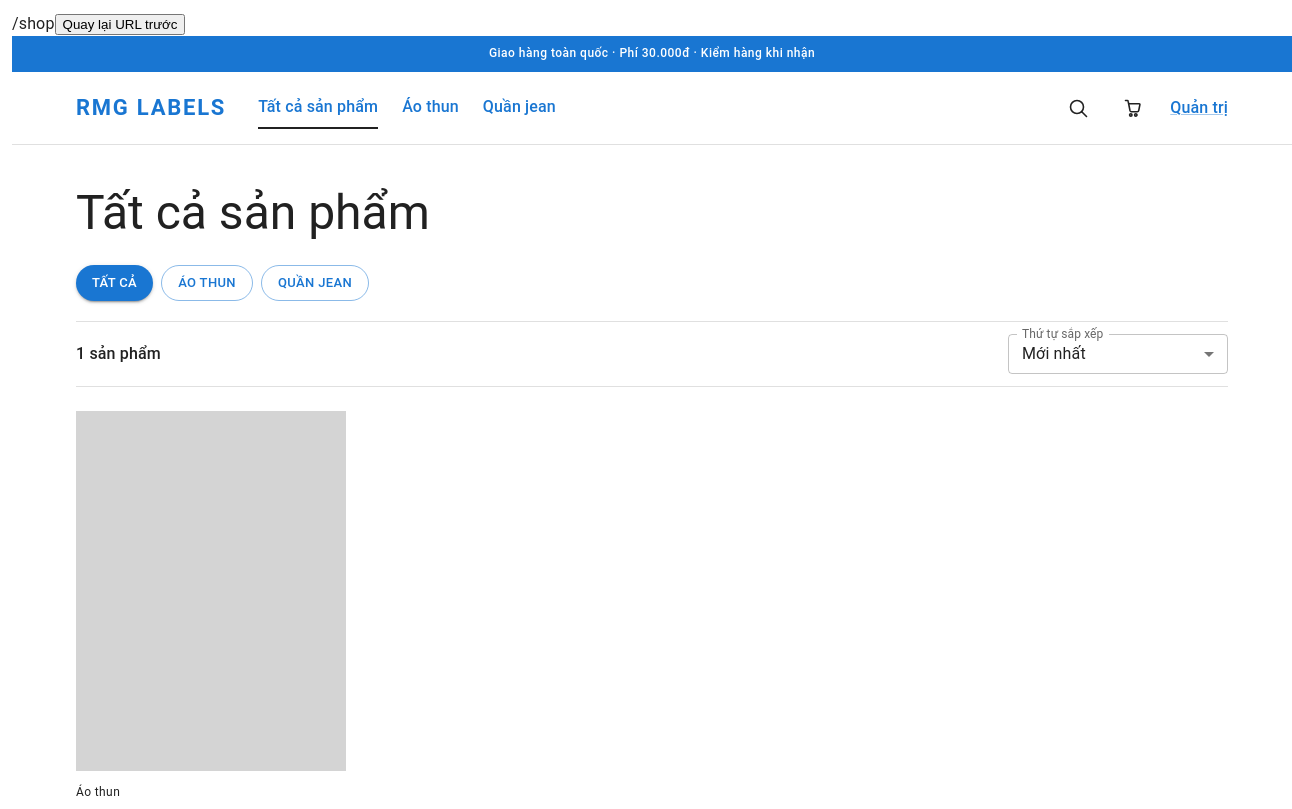
public shop catalog › changes the sort order and reports it on the URL
Select "Giá cao đến thấp" in the dropdown labelled "Thứ tự sắp xếp" at (1118, 354), box left=1008, top=334, right=1228, bottom=374
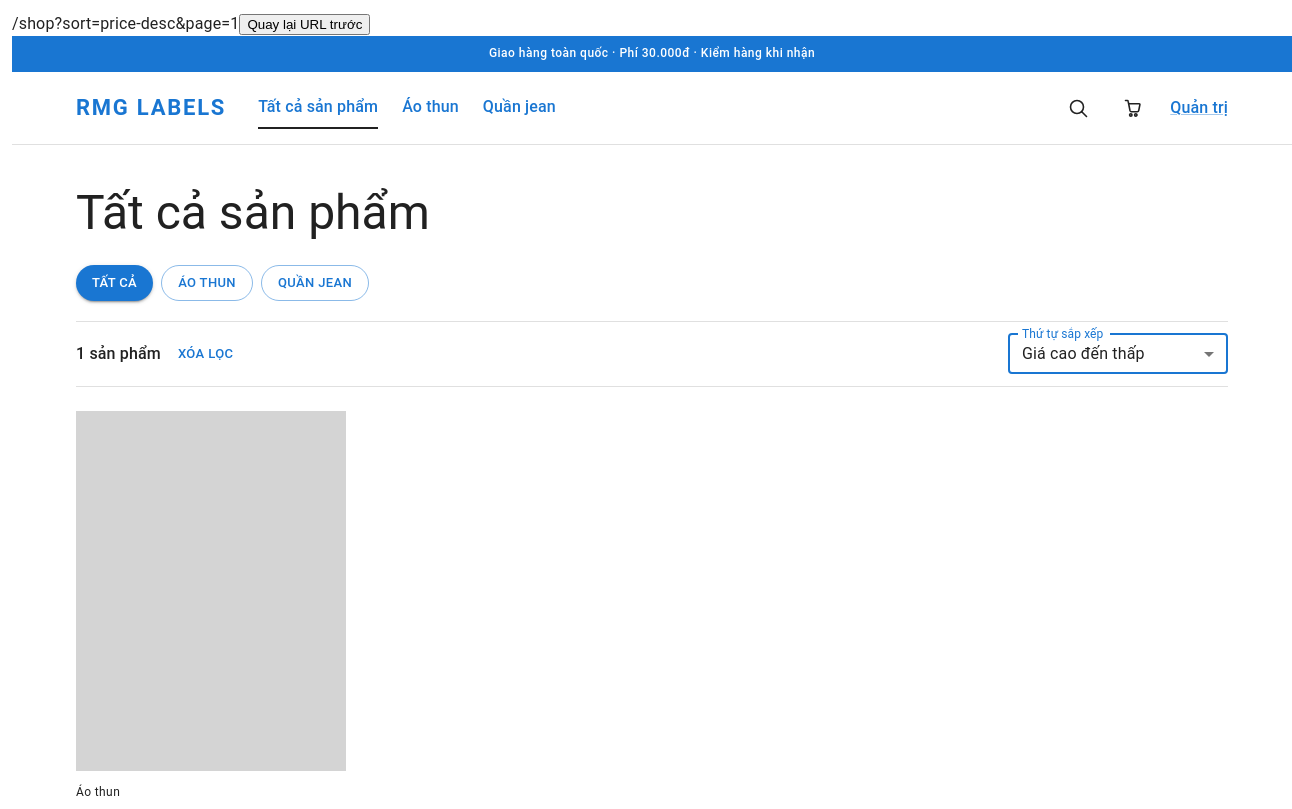
Result: the text with test id "url" shows "sort=price-desc" at left=54, top=14, right=239, bottom=33
